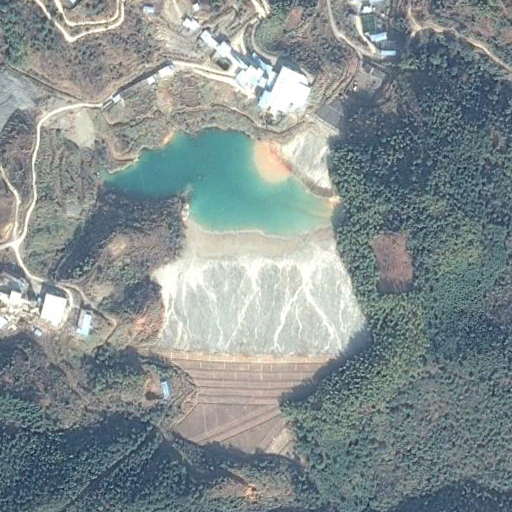tp: (91, 94, 375, 466)
